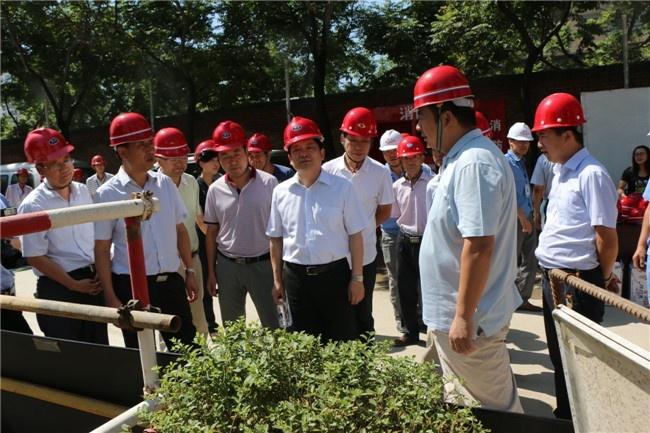none: (630, 143, 650, 167)
red: (413, 64, 471, 148), (531, 93, 586, 162), (23, 125, 73, 186), (109, 110, 155, 172), (282, 116, 322, 172), (212, 119, 248, 177), (337, 107, 374, 163), (151, 126, 189, 174), (244, 131, 275, 172), (399, 136, 424, 175), (194, 139, 220, 174), (90, 154, 106, 174), (14, 167, 29, 184)
white: (505, 122, 533, 156), (379, 131, 400, 165)
